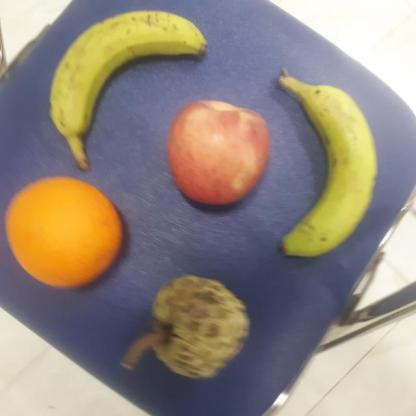annona: (152, 272, 252, 380)
apple: (165, 98, 273, 210)
banana: (47, 9, 205, 167), (279, 70, 384, 256)
orange: (2, 175, 127, 290)
